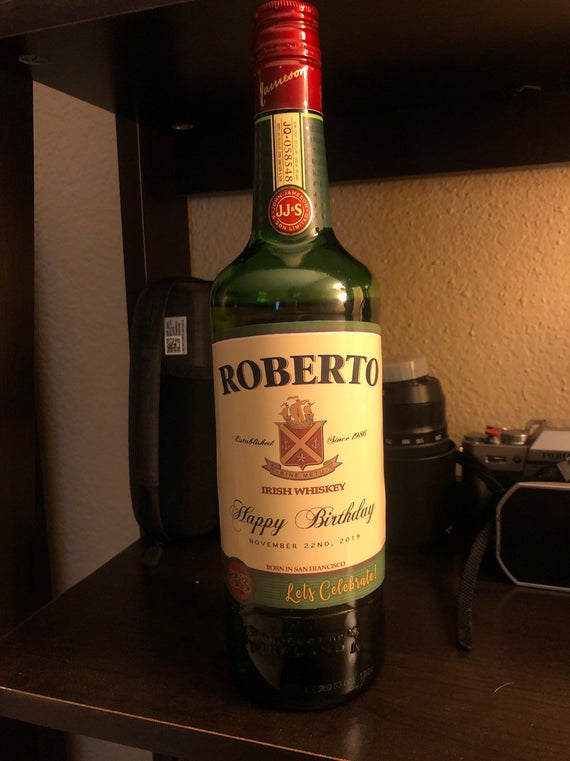Jameson: (201, 4, 393, 716)
